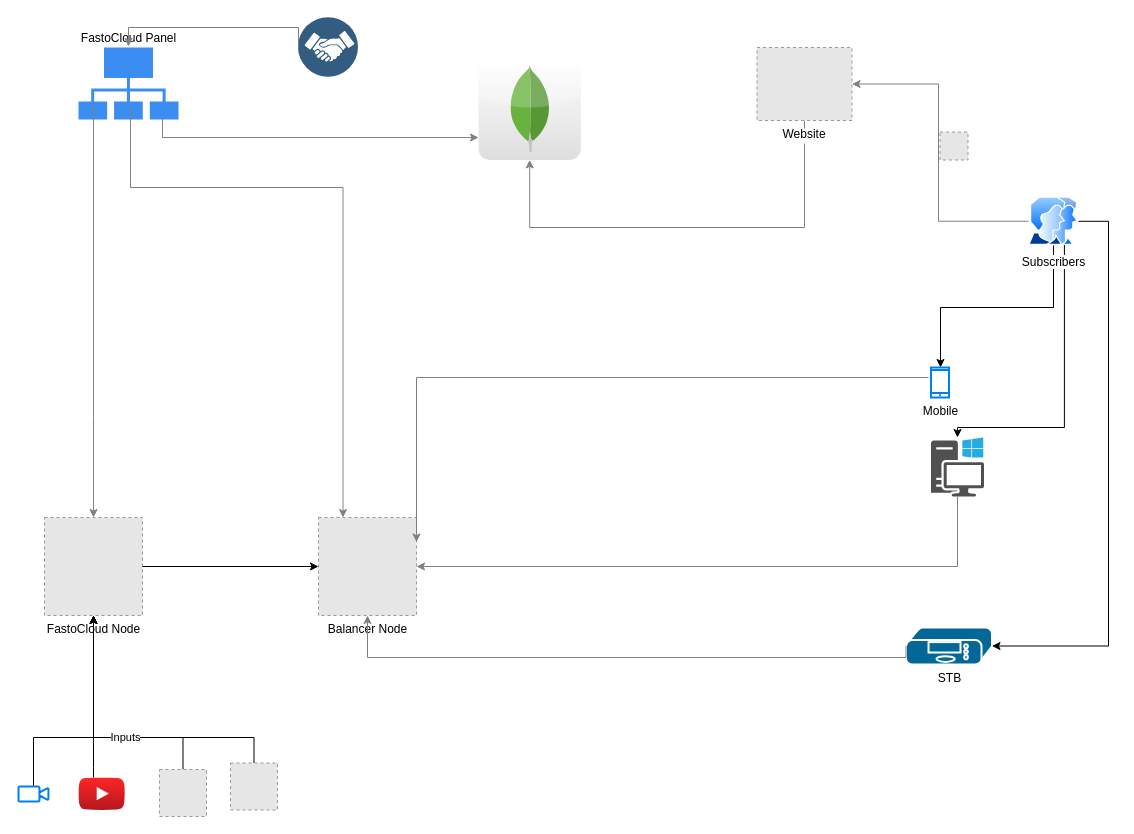
Some shapes in this 1134 by 834 pixel diagram are drawn without their labels. Grey dashed boxes stand in for pictures. The centre of each missing label's shape, as x and y in pixels:
"Database" belongs at (529,108).
"PC" belongs at (957,466).
"Providers" belongs at (328,47).
